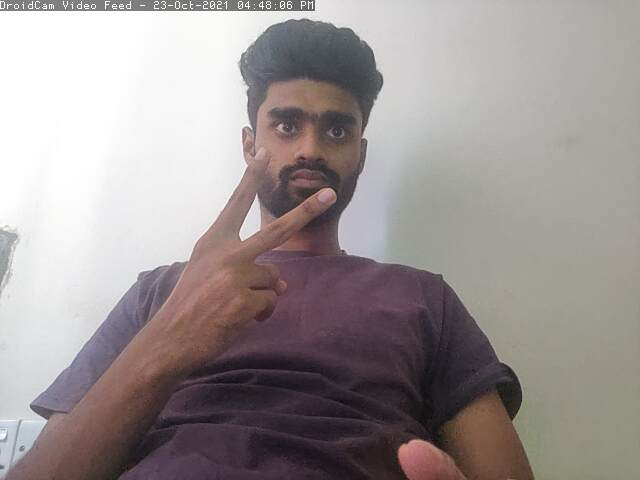Victory: (151, 147, 335, 351)
